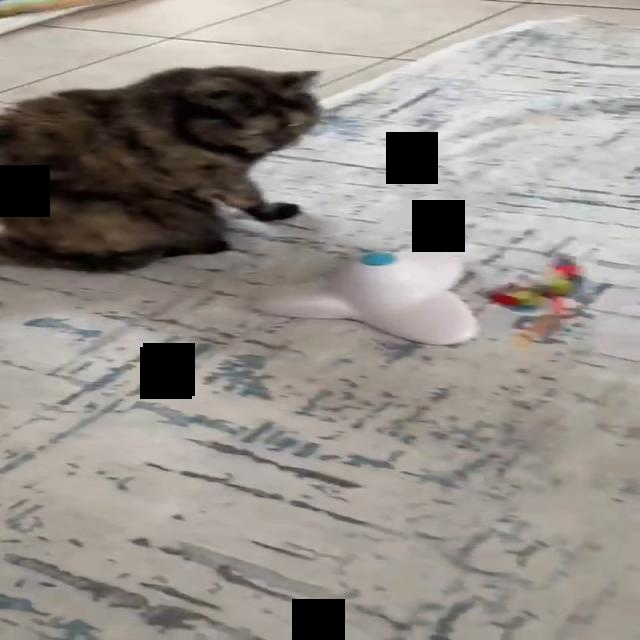authorized: (0, 64, 324, 273)
